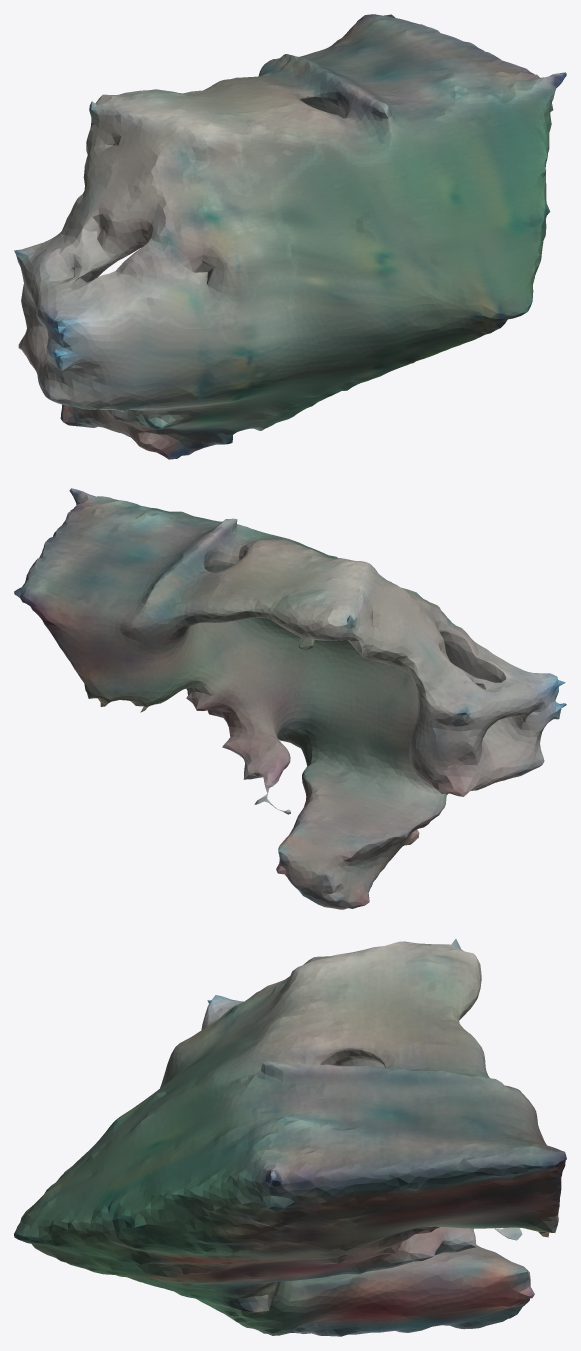
The model's file is IMG_SEG_06.glb.
3 views of the same model, one above another, from view 1: azimuth 30°, elevation 25°; view 2: azimuth 150°, elevation 25°; view 3: azimuth 270°, elevation 25° (orthographic). The views are drawn at different scales.
Size of the model in its own units: 0.8441 by 0.4999 by 0.6409.
1 material, 1 textured.
